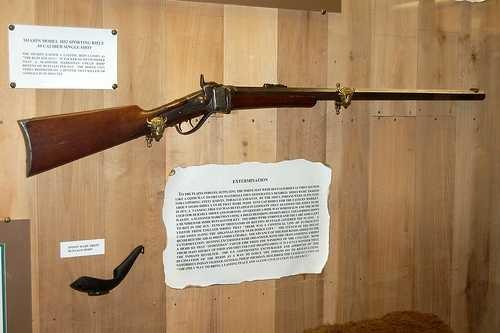heavyweapon: (12, 67, 491, 175)
